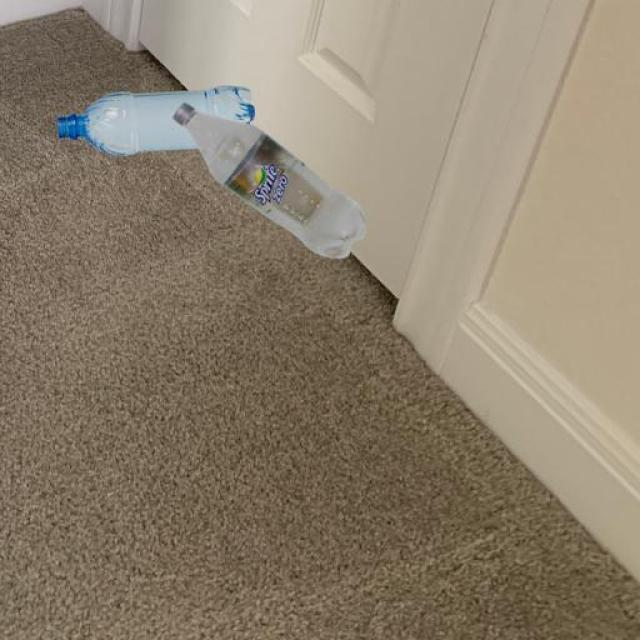bottle: (170, 100, 366, 260), (54, 82, 255, 158)
